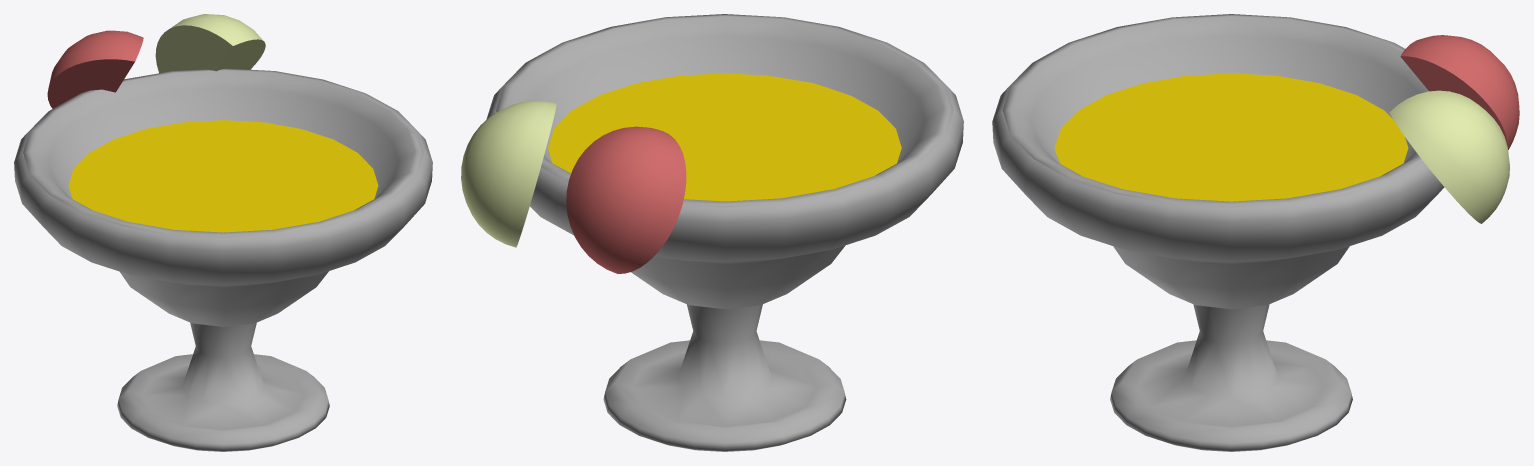
Rendered from orange mixed cocktail.fbx.
3 views of the same model, side by side, from view 1: azimuth 30°, elevation 25°; view 2: azimuth 150°, elevation 25°; view 3: azimuth 270°, elevation 25° (orthographic). The views are drawn at different scales.
Visible parts, largest first — view 1: nurbsToPoly1, pCylinder1, pasted__pSphere1, pSphere1; view 2: nurbsToPoly1, pCylinder1, pSphere1, pasted__pSphere1; view 3: nurbsToPoly1, pCylinder1, pasted__pSphere1, pSphere1.
Part boxes in pixels (x1=…): nurbsToPoly1: x1=14, y1=68, x2=432, y2=451; pCylinder1: x1=68, y1=120, x2=378, y2=232; pasted__pSphere1: x1=155, y1=14, x2=265, y2=73; pSphere1: x1=47, y1=30, x2=143, y2=108; nurbsToPoly1: x1=486, y1=14, x2=963, y2=451; pCylinder1: x1=548, y1=73, x2=901, y2=201; pSphere1: x1=566, y1=126, x2=686, y2=273; pasted__pSphere1: x1=461, y1=100, x2=556, y2=247; nurbsToPoly1: x1=992, y1=14, x2=1444, y2=451; pCylinder1: x1=1054, y1=73, x2=1408, y2=201; pasted__pSphere1: x1=1389, y1=90, x2=1509, y2=223; pSphere1: x1=1400, y1=35, x2=1519, y2=149.
Size of the model in its own units: 6.28 by 5.15 by 6.92.
